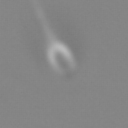normal: (26, 1, 58, 42)
